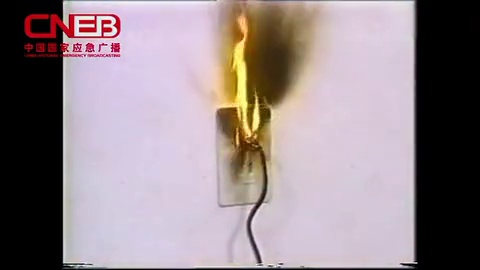fire: (223, 9, 270, 149)
